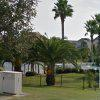Palm tree: (43, 1, 80, 49)
